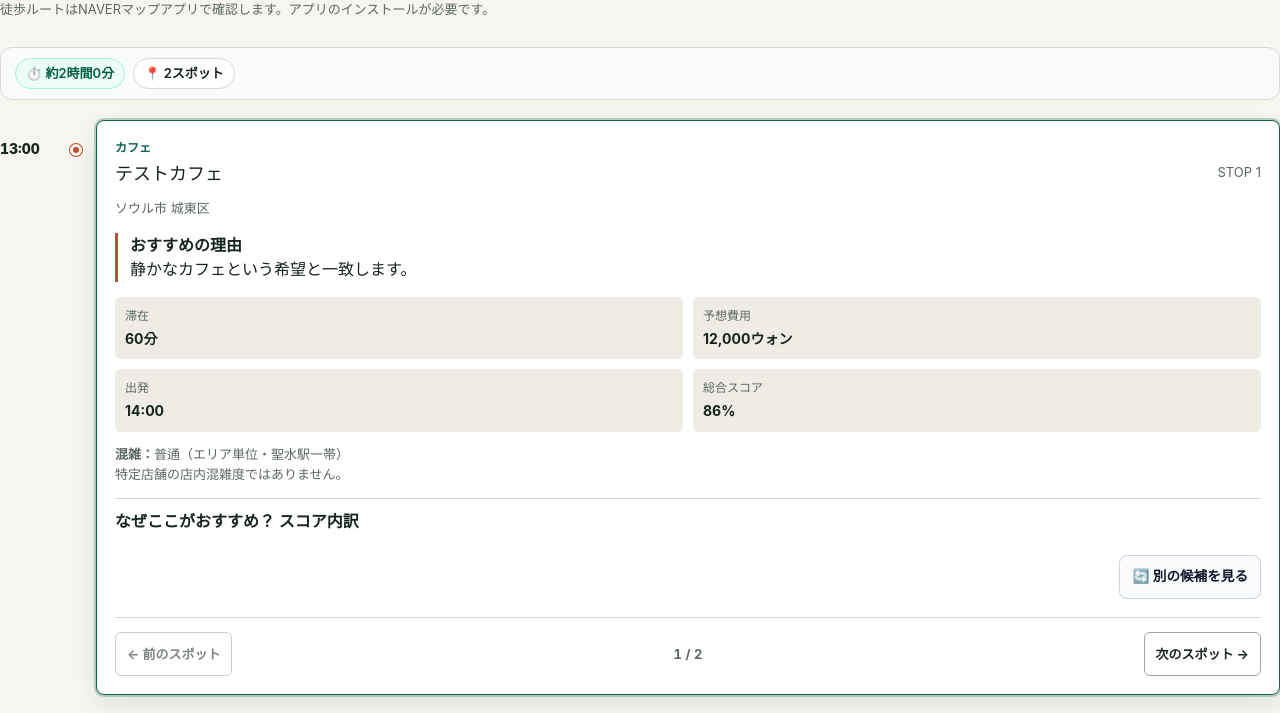
Test: trip detail editing › returns to the previous place without changing the itinerary order
(page scrolled)
Click the button "次のスポット →" at point(1202, 654), box [1144, 632, 1261, 676]
(page scrolled)
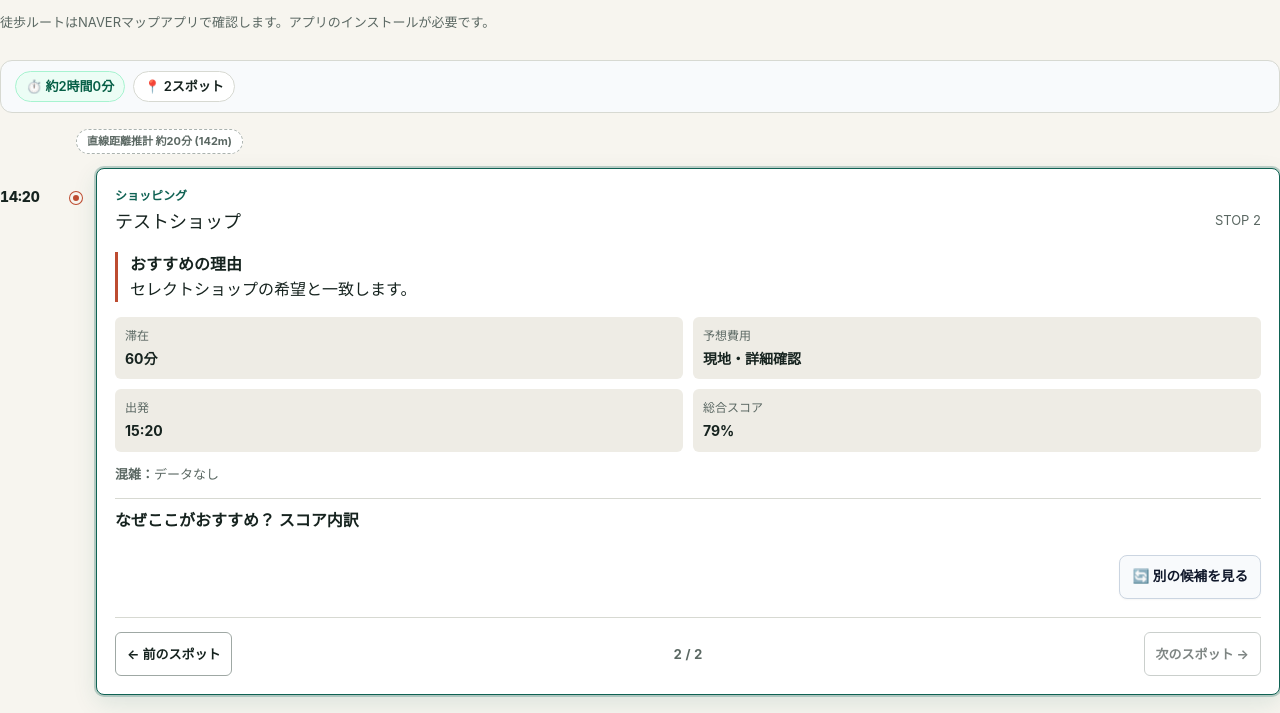
Click the button "← 前のスポット" at point(174, 654), box [115, 632, 232, 676]
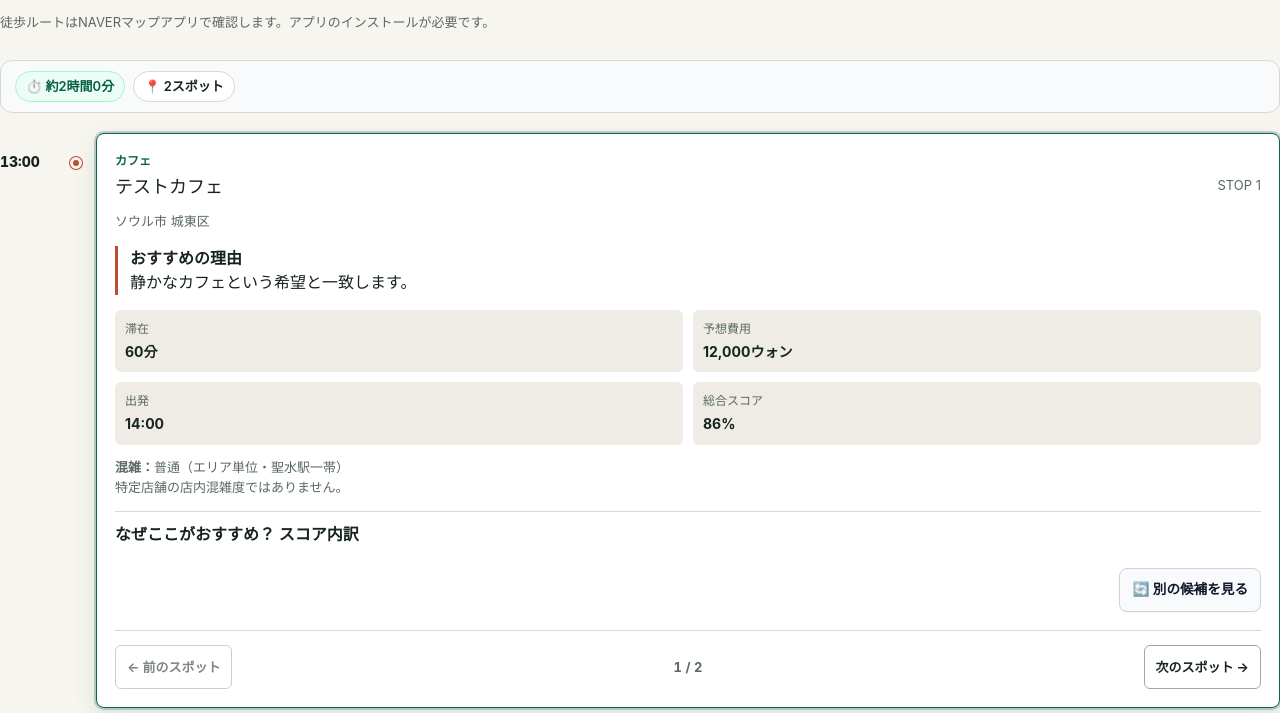
Now the heading "テストカフェ" is shown, box [115, 175, 223, 199]
